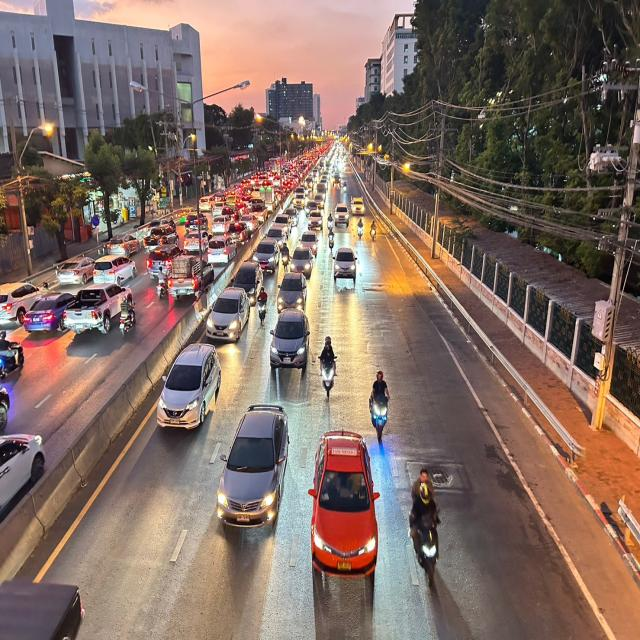bike: (406, 456, 445, 599), (364, 364, 394, 442), (314, 328, 339, 408)
car: (303, 418, 388, 582), (212, 396, 296, 535), (152, 339, 223, 432)
